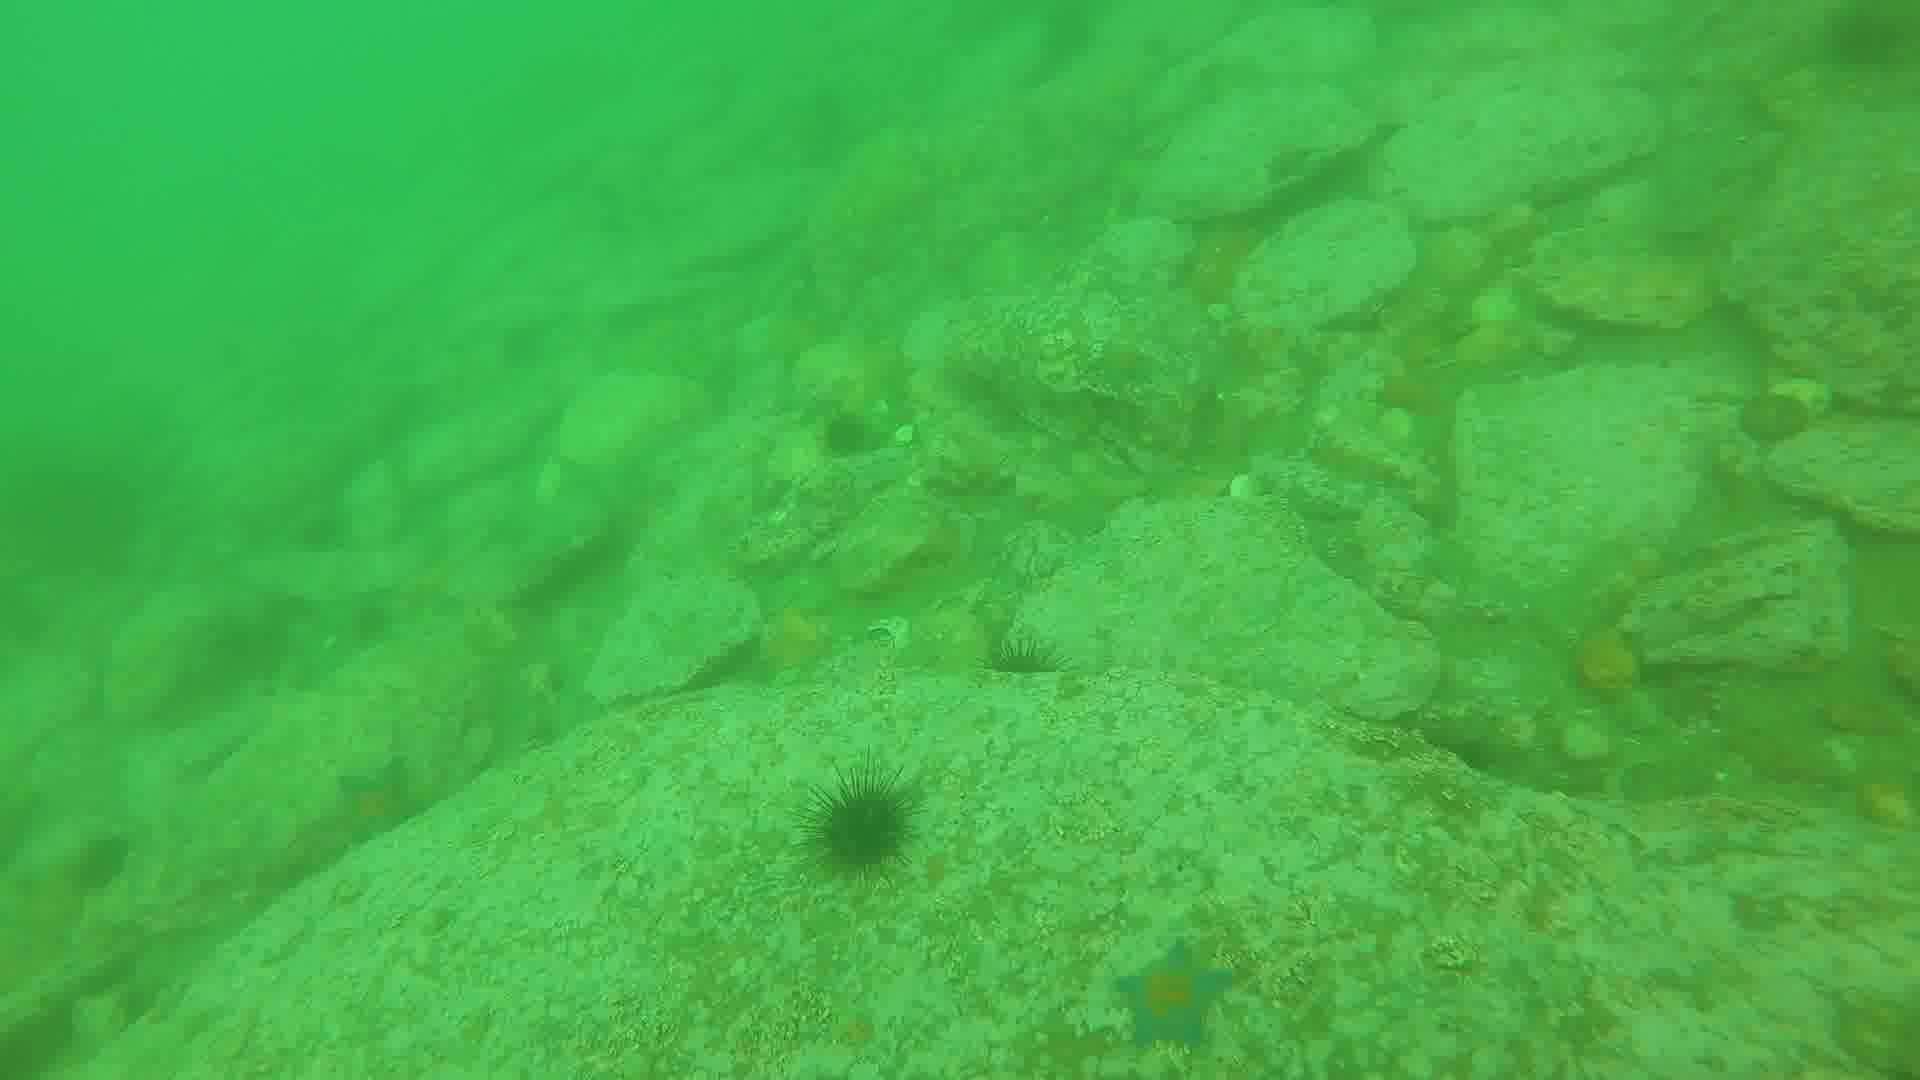echinus: (795, 760, 926, 884), (977, 634, 1077, 712), (818, 407, 866, 454)
starfish: (1112, 940, 1237, 1050), (320, 761, 426, 855)
